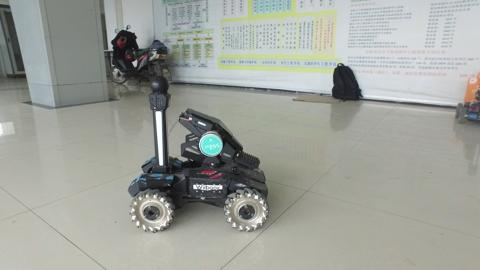bag: (327, 60, 366, 103)
chariot: (126, 73, 271, 233)
